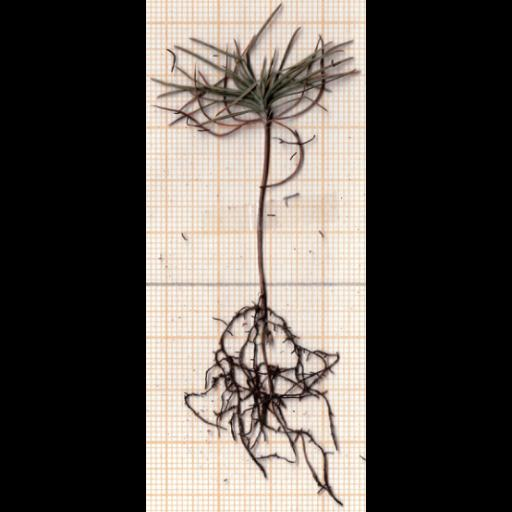flowerCedr: (154, 3, 359, 139)
rootCedr: (185, 300, 343, 504)
